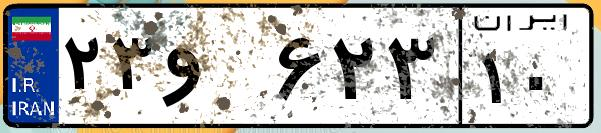0: (525, 38, 570, 115)
1: (475, 38, 525, 113)
2: (330, 28, 385, 110), (57, 26, 110, 100)
3: (385, 28, 445, 110), (110, 28, 158, 98)
6: (270, 28, 330, 110)
و: (158, 20, 270, 120)
